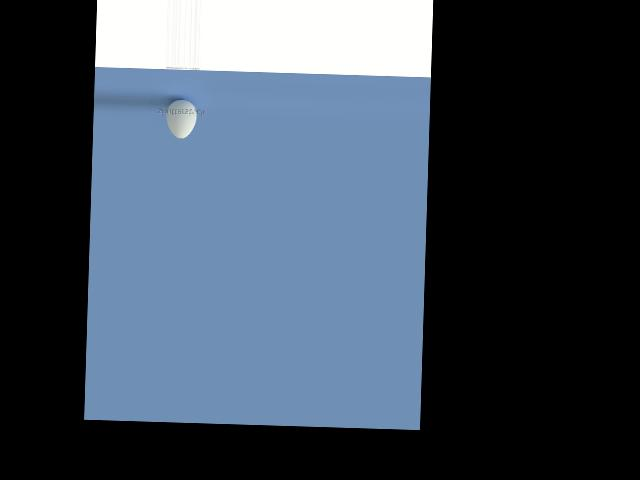egg: (166, 98, 197, 139)
